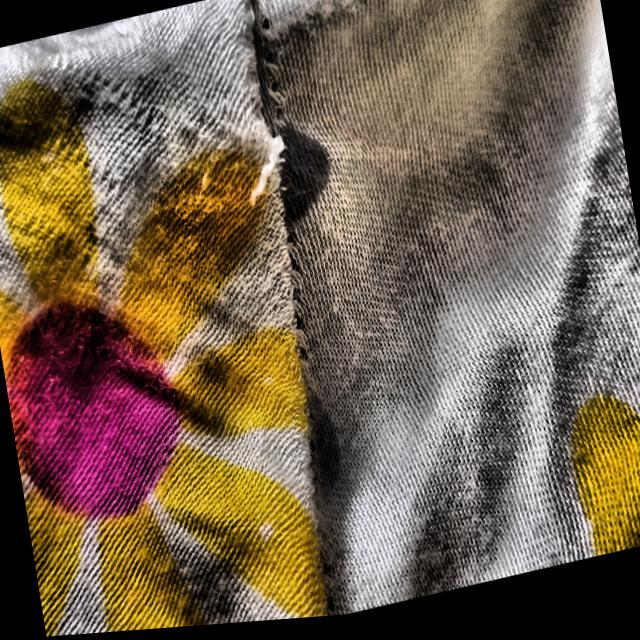Stitch: (212, 101, 383, 266)
